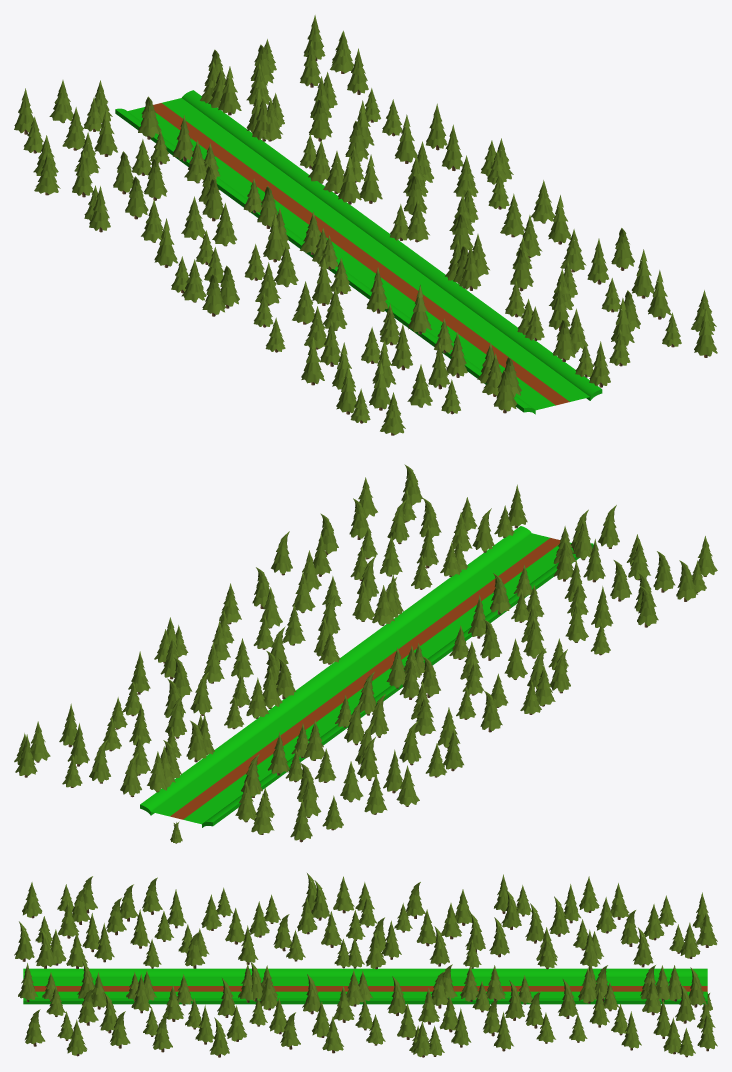
Rendered from terra2.glb.
3 views of the same model, one above another, from view 1: azimuth 30°, elevation 25°; view 2: azimuth 150°, elevation 25°; view 3: azimuth 270°, elevation 25° (orthographic). The views are drawn at different scales.
Visible parts, largest first — view 1: herba.E.002, rampaBosc.E, terra.003; view 2: herba.E.002, rampaBosc.E, terra.003; view 3: rampaBosc.E, Resource_PineTree_Group.007 (×20), Resource_PineTree_Group.006 (×21), Resource_PineTree_Group.003 (×20), Resource_PineTree_Group.005 (×19), herba.E.002, Resource_PineTree_Group.004 (×16), terra.003.
Part boxes in pixels (box(x1,y1,x2,y2)): herba.E.002: box(127, 98, 589, 410); rampaBosc.E: box(115, 90, 602, 414); terra.003: box(153, 103, 569, 405); herba.E.002: box(151, 533, 573, 824); rampaBosc.E: box(140, 526, 593, 827); terra.003: box(170, 538, 560, 819); rampaBosc.E: box(23, 968, 707, 1004); Resource_PineTree_Group.007 (×20): box(14, 880, 705, 1057); Resource_PineTree_Group.006 (×21): box(22, 876, 700, 1057); Resource_PineTree_Group.003 (×20): box(57, 876, 717, 1053); Resource_PineTree_Group.005 (×19): box(18, 874, 717, 1051); herba.E.002: box(23, 977, 707, 998); Resource_PineTree_Group.004 (×16): box(25, 877, 639, 1052); terra.003: box(34, 986, 707, 991).
Size of the model in its own units: 160 by 31.68 by 309.
